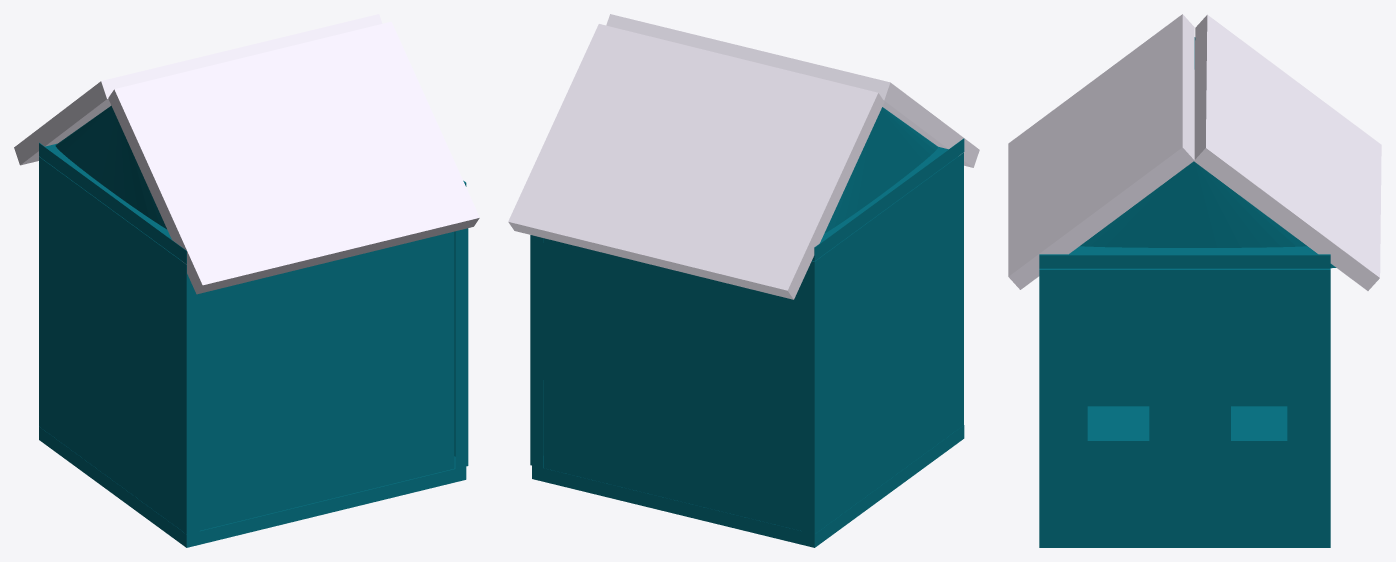
The model's file is casinha.fbx.
3 renders of one model, left to right at view 1: azimuth 30°, elevation 25°; view 2: azimuth 150°, elevation 25°; view 3: azimuth 270°, elevation 25°, orthographic. The views are drawn at different scales.
Parts seen in each view (by area): view 1: Cube.002; view 2: Cube.002; view 3: Cube.002.
Part boxes in pixels (<box>): Cube.002: <box>14,14,479,547</box>; Cube.002: <box>508,14,979,547</box>; Cube.002: <box>1008,14,1381,547</box>.
Size of the model in its own units: 696 by 956 by 809.
